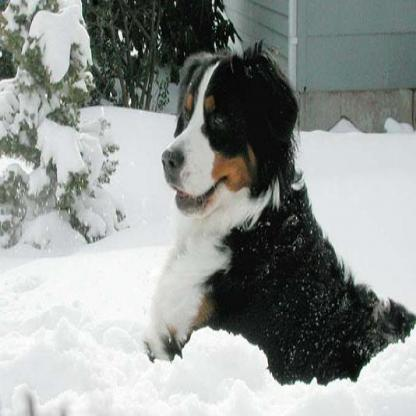Appenzeller: (134, 34, 414, 388)
